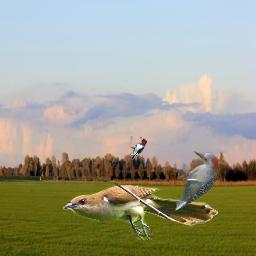Cuckoo: (63, 185, 219, 240)
Woodpecker: (174, 151, 218, 212), (128, 136, 148, 161)
